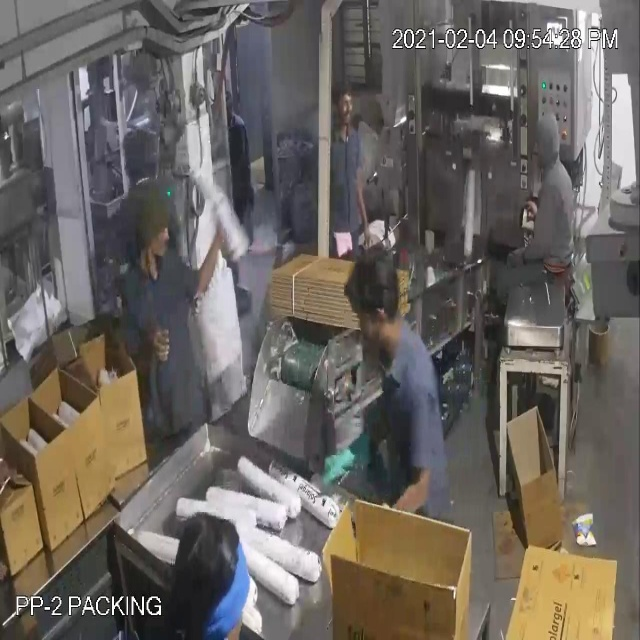Guantes: (314, 419, 378, 495)
Sin_guantes: (187, 207, 230, 306), (120, 309, 178, 381), (352, 157, 376, 260)
